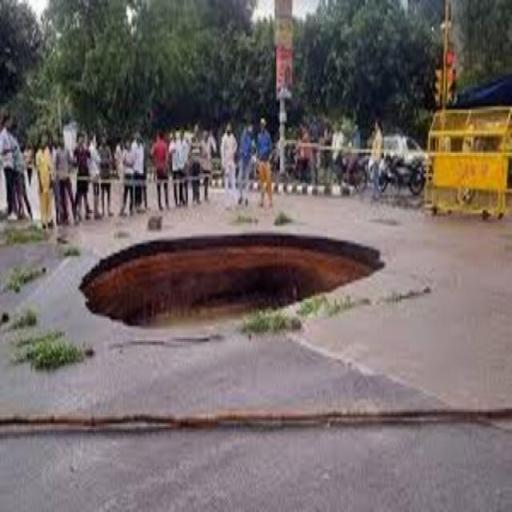Concentric_Crack: (80, 232, 384, 325)
